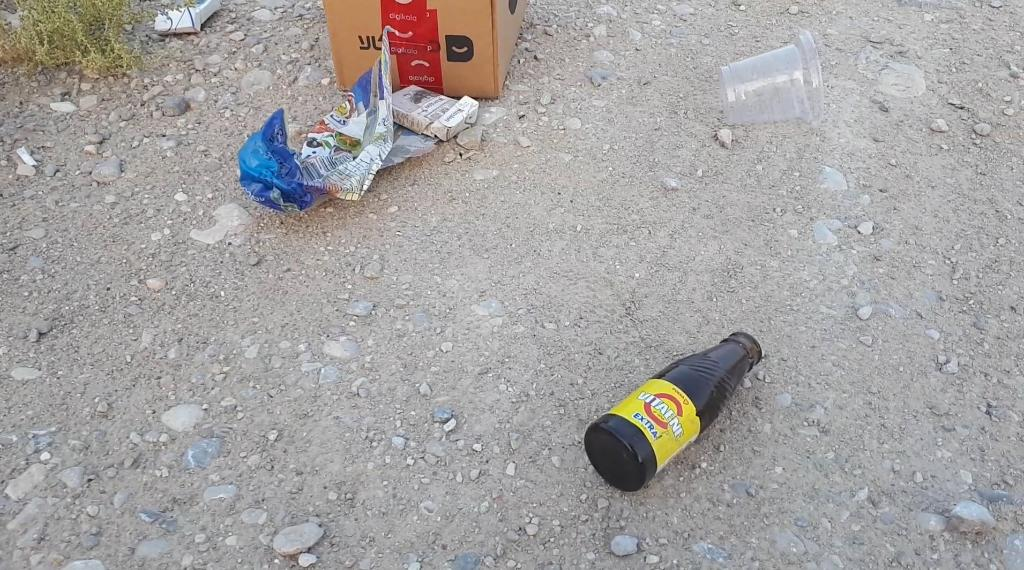garbage: (567, 313, 791, 481), (237, 82, 489, 210), (584, 332, 761, 492), (303, 0, 549, 100)
